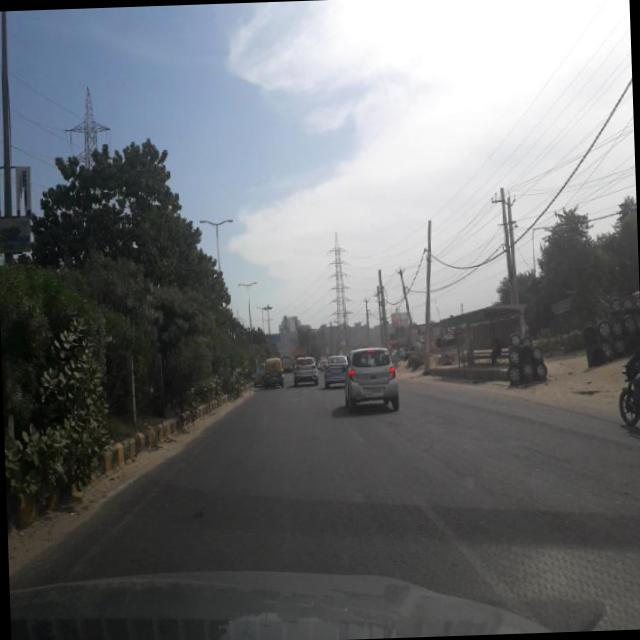crack: (57, 424, 632, 578)
